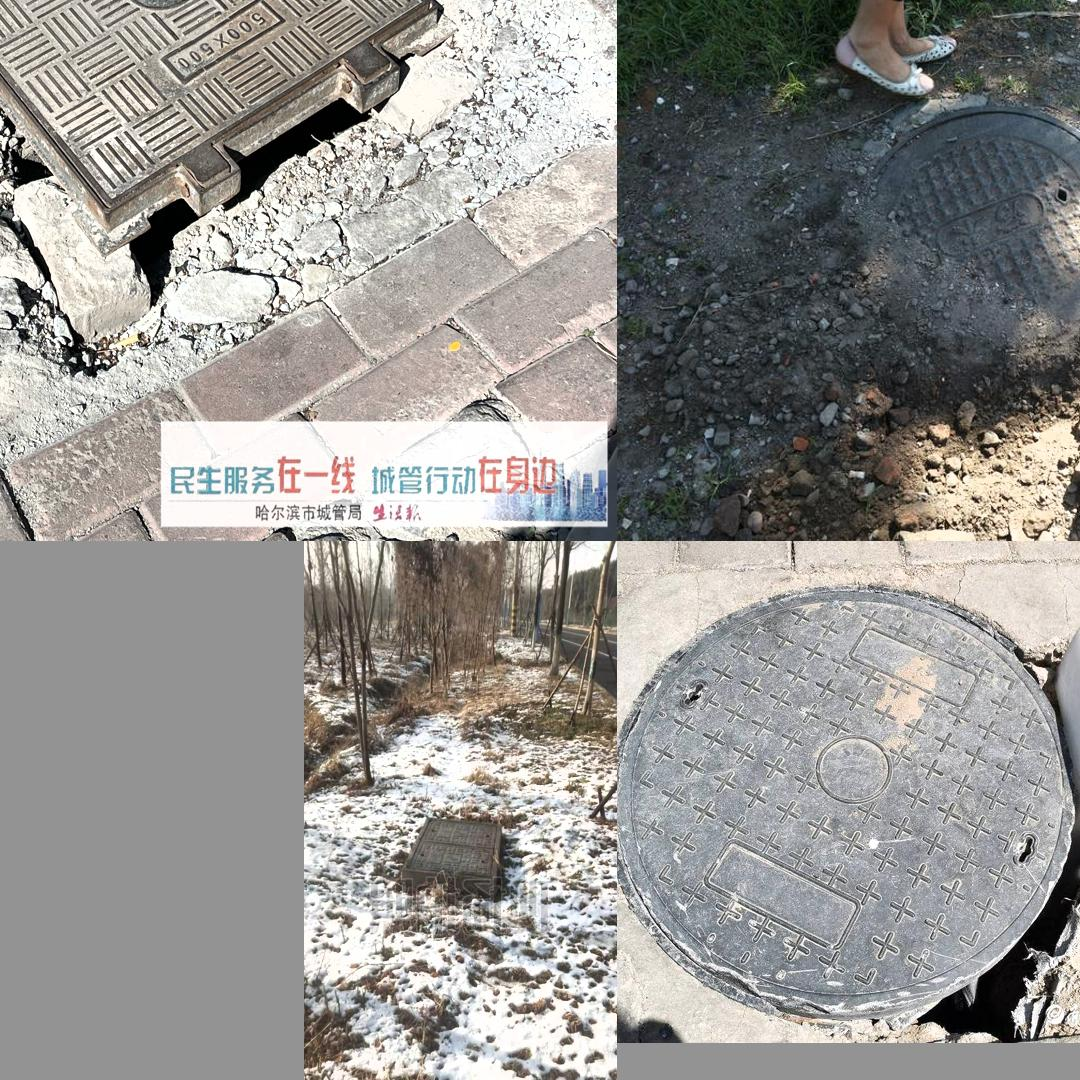circle: (0, 0, 564, 372), (627, 587, 1080, 1028), (791, 97, 1080, 397), (394, 816, 506, 905)
